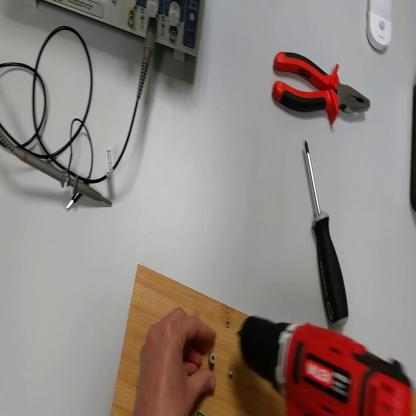electric screwdriver: (241, 317, 416, 414)
hand: (134, 306, 218, 413)
oscilloscope: (24, 1, 209, 71)
oscilloscope probe tip: (12, 141, 114, 211)
pliers: (271, 48, 373, 130)
screwdriver-: (304, 140, 351, 330)
welder station: (411, 82, 415, 214)
working area: (113, 264, 416, 416)
